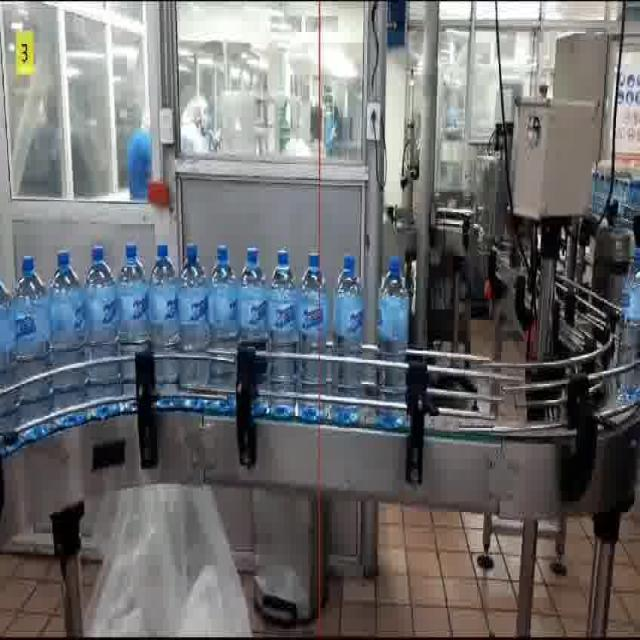bottle: (375, 254, 411, 430), (265, 247, 300, 421), (81, 242, 120, 398), (11, 252, 50, 408), (331, 253, 365, 427), (296, 249, 329, 423), (48, 248, 84, 396), (175, 241, 210, 353), (146, 241, 180, 352), (120, 242, 152, 358), (207, 243, 240, 353), (236, 245, 269, 347)
